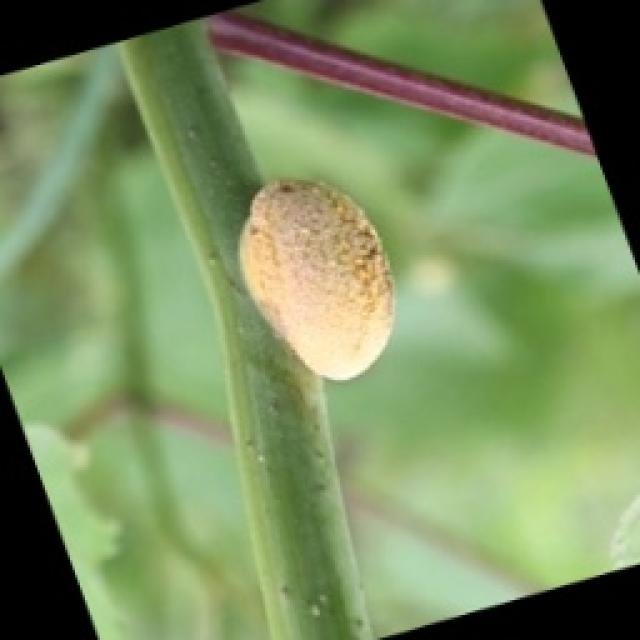Elderberry_rust: (226, 144, 413, 390)
